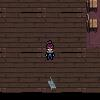Victim: (44, 39, 56, 60)
Win: (47, 76, 56, 90)
